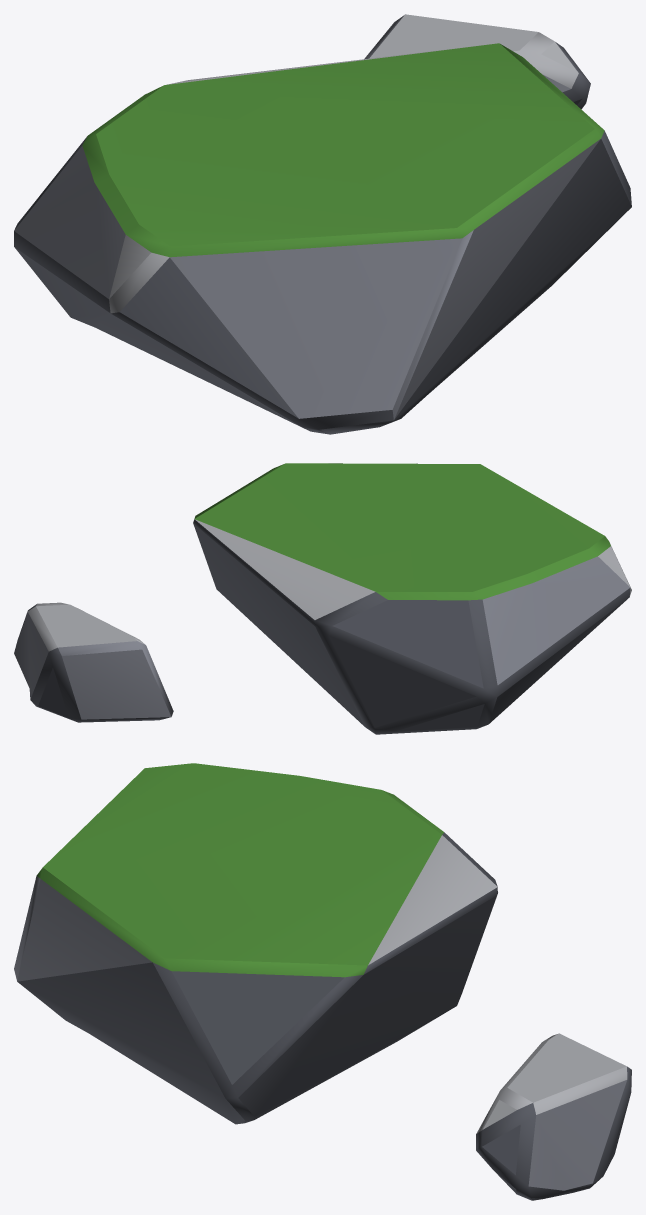
Rendered from Rock_09.glb.
3 renders of one model, top to bottom at view 1: azimuth 30°, elevation 25°; view 2: azimuth 150°, elevation 25°; view 3: azimuth 270°, elevation 25°, orthographic. The views are drawn at different scales.
Parts seen in each view (by area): view 1: Rock_09; view 2: Rock_09; view 3: Rock_09.
Part boxes in pixels (x1=…): Rock_09: x1=14, y1=14, x2=631, y2=434; Rock_09: x1=14, y1=463, x2=631, y2=734; Rock_09: x1=14, y1=763, x2=631, y2=1200.
Size of the model in its own units: 3.61 by 1.02 by 3.19.
